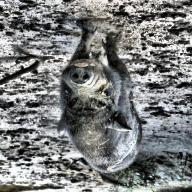boar: (56, 19, 142, 174)
